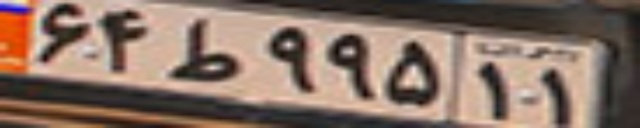1: (477, 59, 513, 119), (535, 66, 570, 124)
4: (100, 8, 148, 73)
5: (384, 38, 442, 104)
6: (37, 0, 90, 66)
9: (267, 26, 318, 91), (325, 33, 375, 98)
taa: (166, 17, 240, 81)
